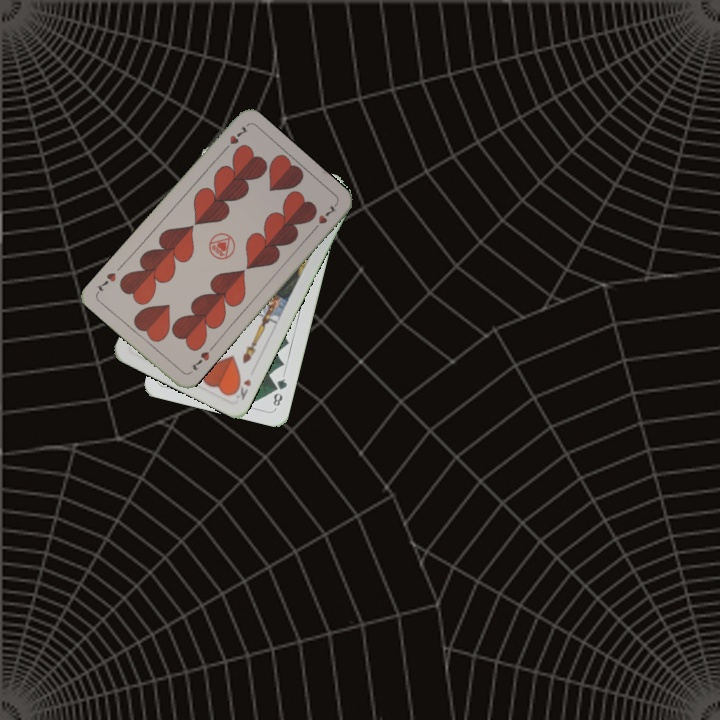G8: (269, 374, 290, 411)
H7: (219, 121, 250, 155), (188, 347, 212, 373)
HK: (229, 374, 254, 402)
